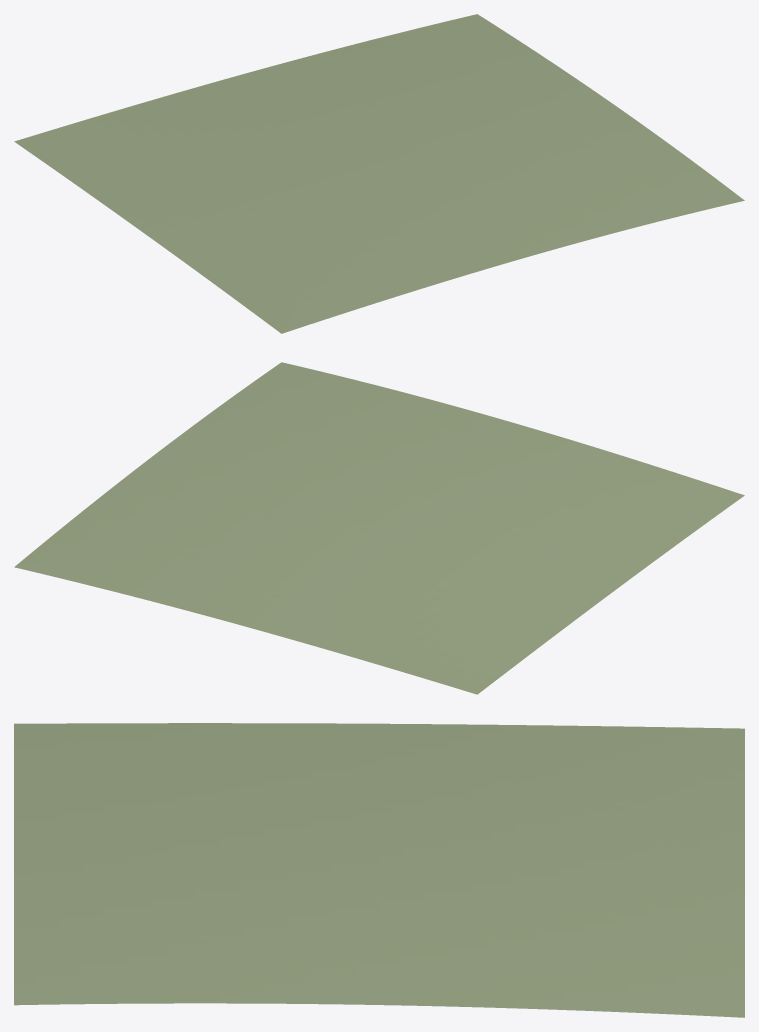
Rendered from canyon-5-5.glb.
3 views of the same model, one above another, from view 1: azimuth 30°, elevation 25°; view 2: azimuth 150°, elevation 25°; view 3: azimuth 270°, elevation 25° (orthographic). The views are drawn at different scales.
Parts seen in each view (by area): view 1: canyon-5-5; view 2: canyon-5-5; view 3: canyon-5-5.
Boxes of the visible parts, <box> form: canyon-5-5: <box>14,14,744,333</box>; canyon-5-5: <box>14,362,744,694</box>; canyon-5-5: <box>14,723,744,1017</box>.
Bounding box in the file's own units: 128 × 6.67 × 128.
